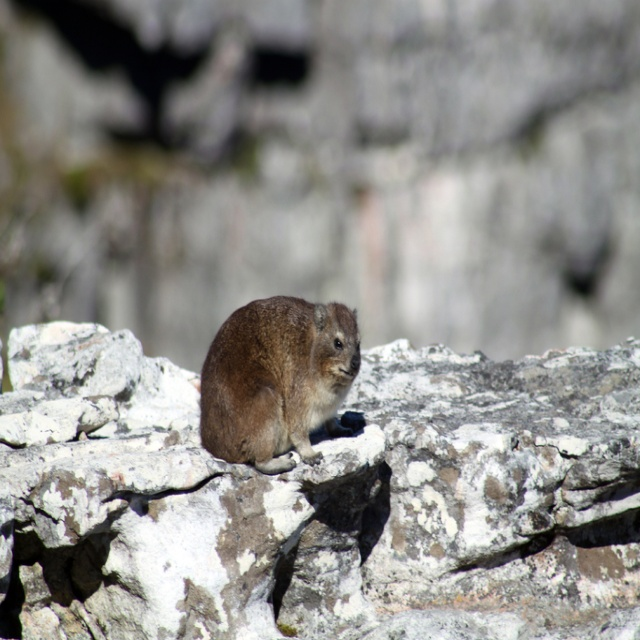Mouse: (200, 300, 354, 468)
